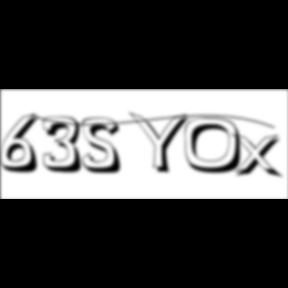3: (43, 116, 89, 176)
6: (0, 112, 46, 176)
O: (184, 117, 250, 176)
S: (82, 117, 128, 176)
Y: (128, 110, 196, 176)
x: (232, 132, 286, 181)
